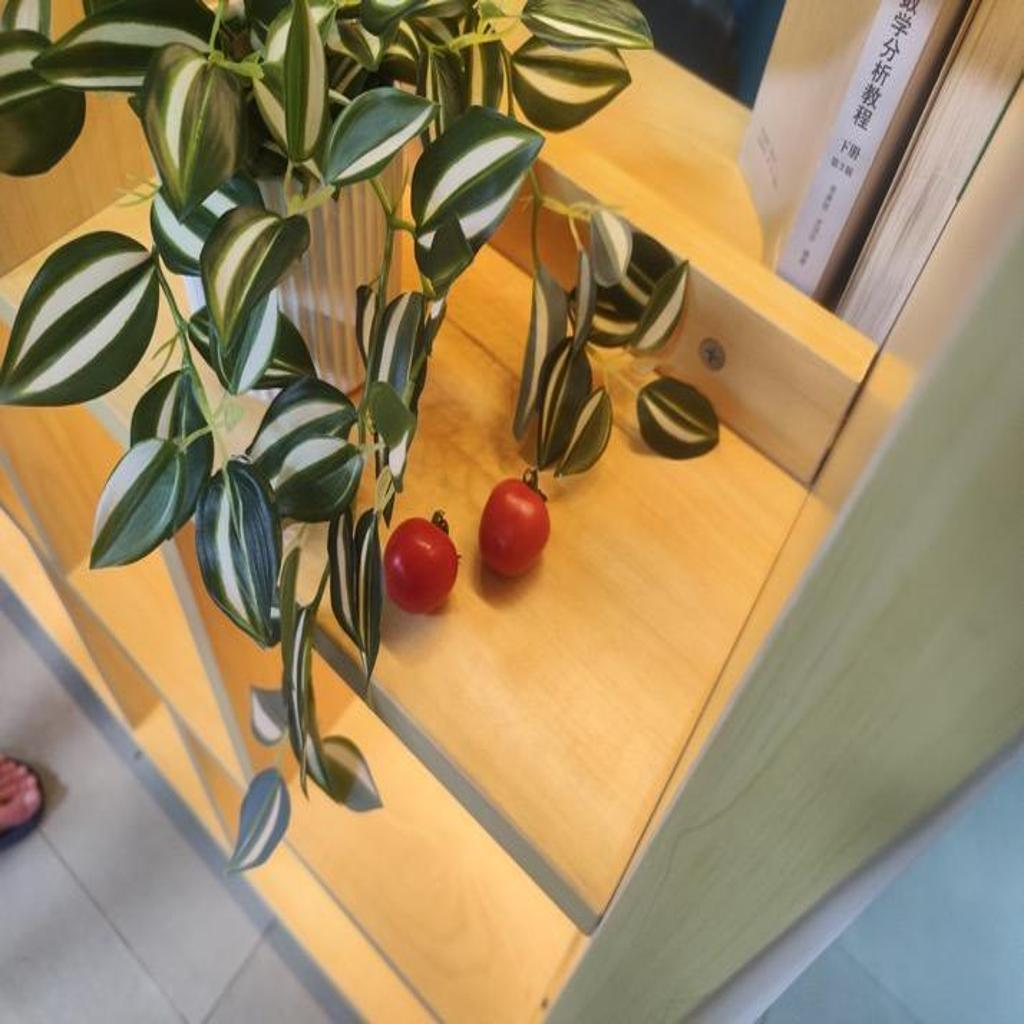tomato: (379, 512, 464, 617), (474, 477, 553, 585)
